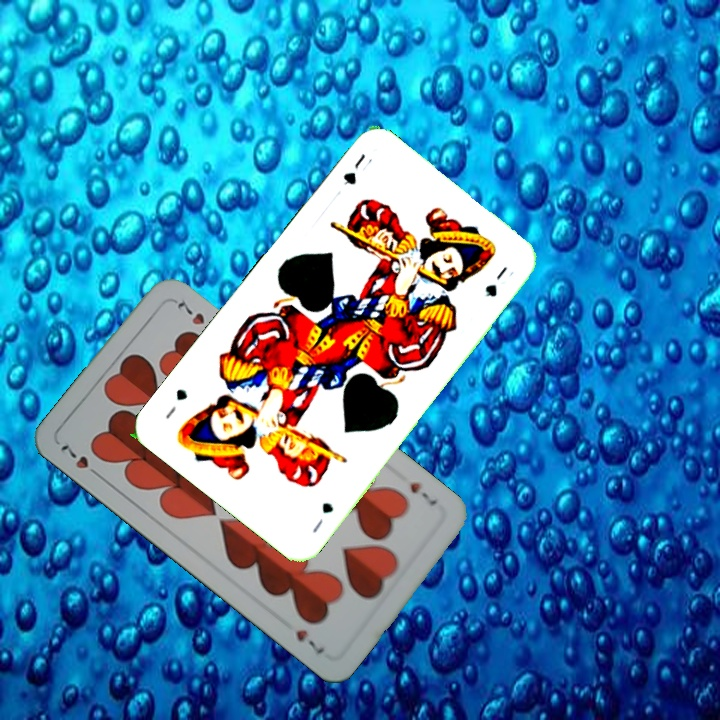GU: (339, 149, 375, 188), (308, 498, 337, 536)
H7: (56, 440, 105, 482), (406, 477, 440, 510)
